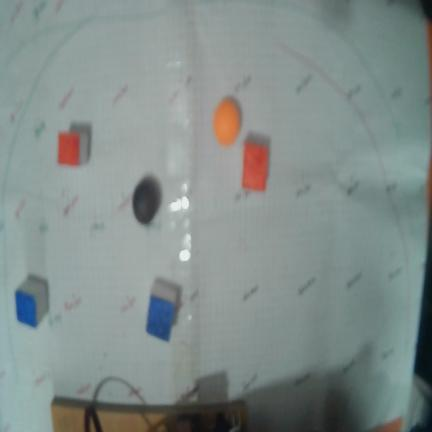circle_blue: (132, 184, 157, 224)
circle_orange: (213, 97, 241, 146)
rectangle_blue: (16, 291, 37, 326)
rectangle_orange: (57, 132, 81, 164)
square_blue: (146, 295, 175, 341)
square_orange: (242, 140, 269, 190)
